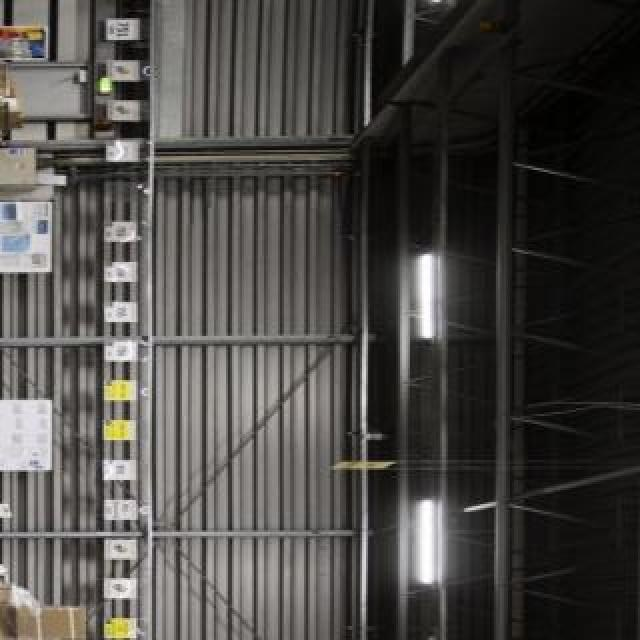fluorescent tube: (409, 251, 444, 349), (414, 487, 442, 593)
